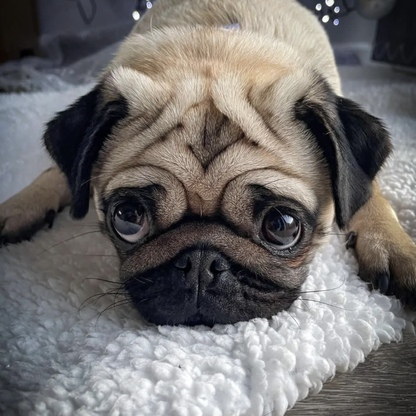Pug: (1, 1, 416, 335)
